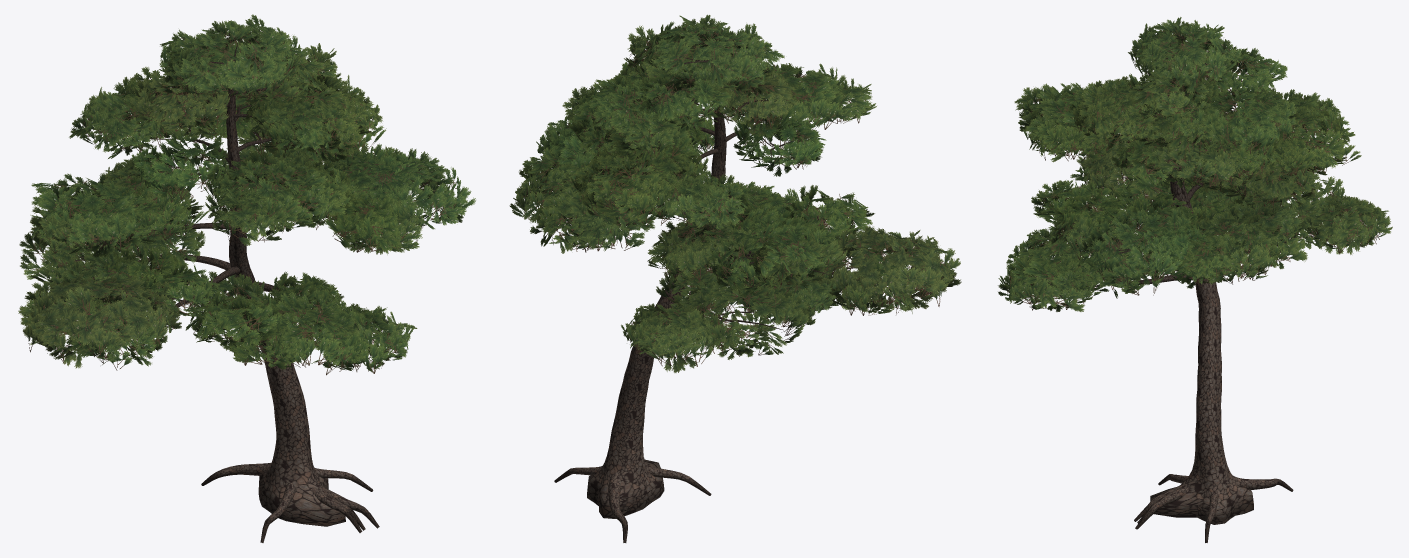
File: tree_pine.glb
3 renders of one model, left to right at view 1: azimuth 30°, elevation 25°; view 2: azimuth 150°, elevation 25°; view 3: azimuth 270°, elevation 25°, orthographic. The views are drawn at different scales.
Visible parts, largest first — view 1: pine_needles, pine_trunk; view 2: pine_needles, pine_trunk; view 3: pine_needles, pine_trunk.
Part boxes in pixels (x1,y1,x2,y2): pine_needles: [18, 14, 475, 375]; pine_trunk: [40, 43, 434, 542]; pine_needles: [509, 14, 961, 372]; pine_trunk: [554, 54, 870, 542]; pine_needles: [998, 17, 1392, 311]; pine_trunk: [1048, 47, 1320, 542].
Size of the model in its own units: 10 by 11.14 by 8.96.
2 materials, 2 textured.
